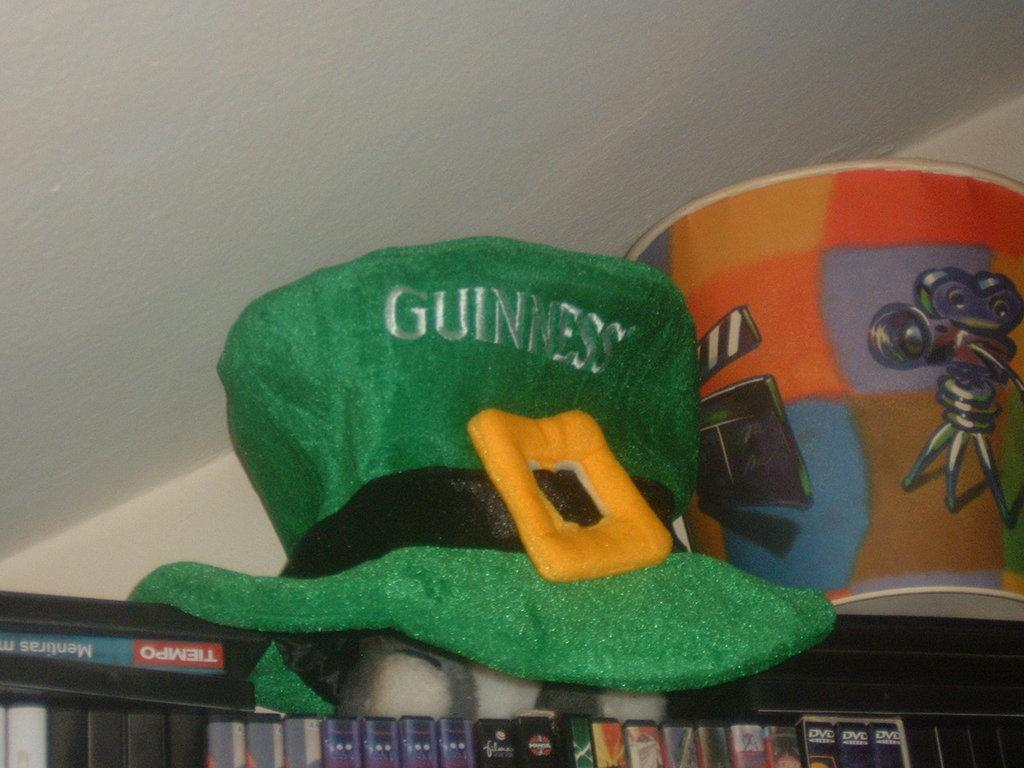Hat: (126, 236, 838, 716)
